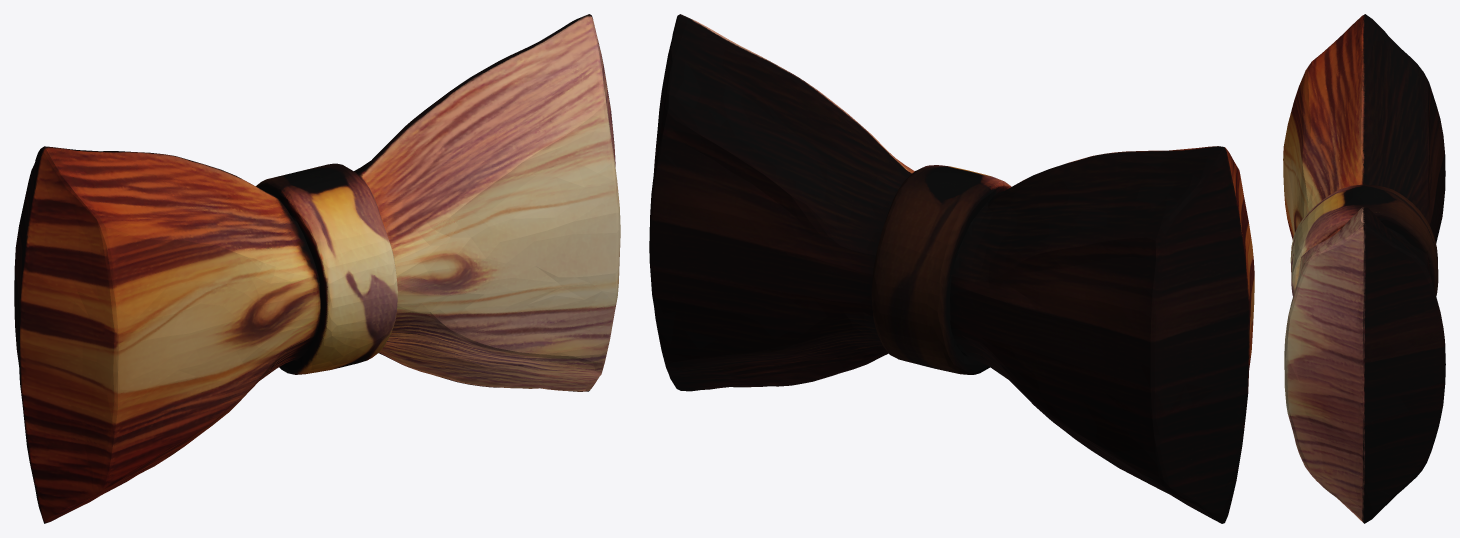
The model's file is wooden-bowtie-rustic.jpeg.glb.
3 renders of one model, left to right at view 1: azimuth 30°, elevation 25°; view 2: azimuth 150°, elevation 25°; view 3: azimuth 270°, elevation 25°, orthographic. The views are drawn at different scales.
Parts seen in each view (by area): view 1: world; view 2: world; view 3: world.
Boxes of the visible parts, <box> form: world: <box>14,14,620,523</box>; world: <box>649,14,1254,523</box>; world: <box>1283,14,1445,523</box>.
Bounding box in the file's own units: 1 × 0.6058 × 0.2984.
Materials: 1 (1 with a texture image).
